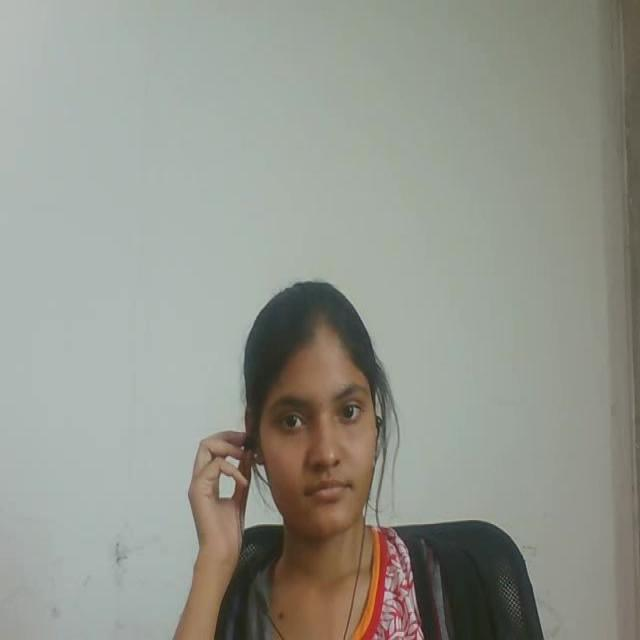Engaged: (216, 268, 402, 606)
